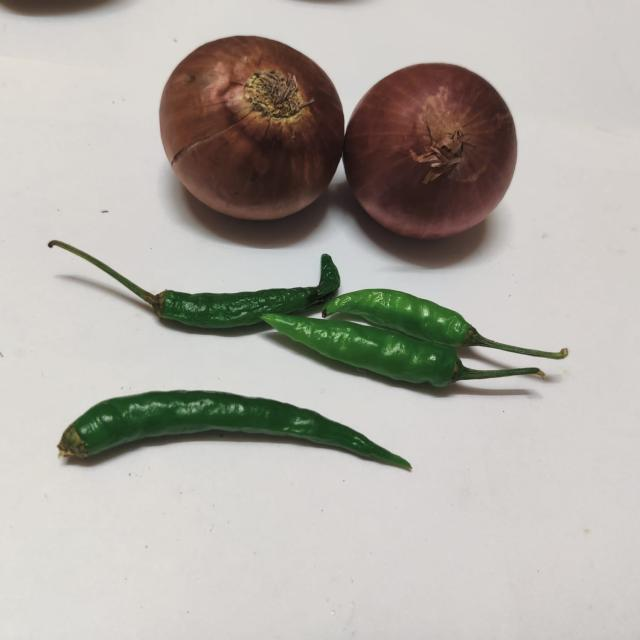Organik: (48, 376, 434, 502), (151, 28, 342, 235), (345, 55, 524, 258), (295, 277, 589, 394), (90, 243, 368, 354)
